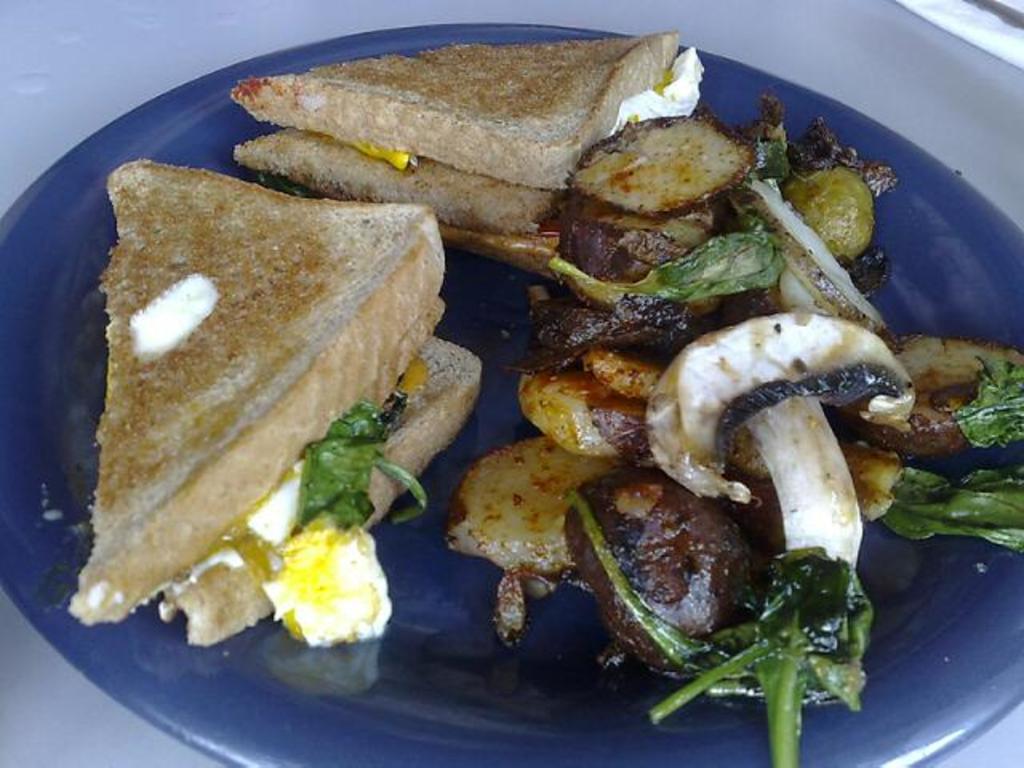sandwich: (67, 160, 485, 648), (230, 29, 680, 243)
